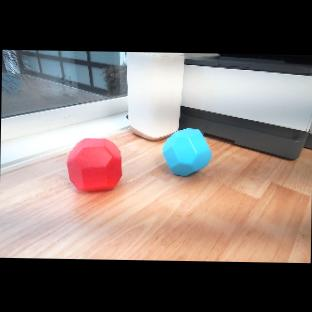V5_BLUE: (161, 126, 212, 178)
V5_RED: (66, 135, 124, 193)
